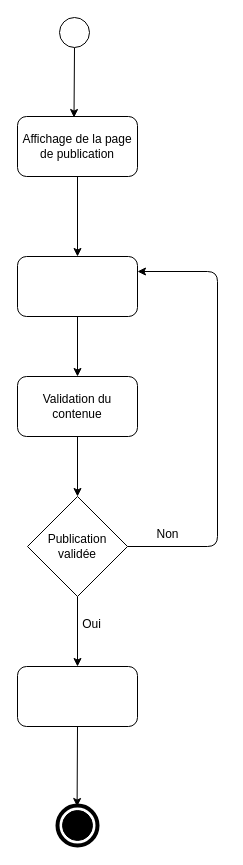
This 243x865 diagram has some shape labels left out. Here are the shapes that lost their labels. From the top down, the box of each, then its label:
(16, 256, 138, 316): Soumission du formulaire
(16, 666, 138, 726): Publier
